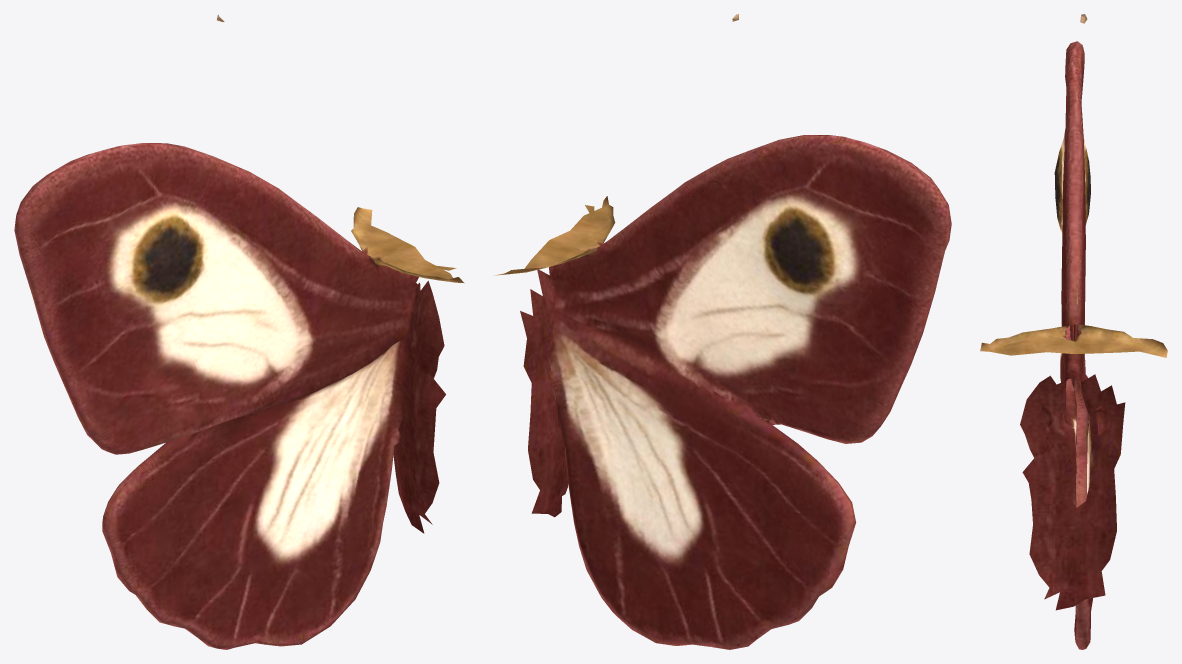
Rendered from hushwing-left.glb.
3 views of the same model, side by side, from view 1: azimuth 30°, elevation 25°; view 2: azimuth 150°, elevation 25°; view 3: azimuth 270°, elevation 25° (orthographic). The views are drawn at different scales.
Parts seen in each view (by area): view 1: Mesh_0.001; view 2: Mesh_0.001; view 3: Mesh_0.001.
Part boxes in pixels (left/top/right/bottom): Mesh_0.001: left=14, top=14, right=464, bottom=649; Mesh_0.001: left=494, top=14, right=951, bottom=649; Mesh_0.001: left=980, top=14, right=1167, bottom=649.
Size of the model in its own units: 0.6951 by 1.06 by 0.3026.
1 material, 1 textured.
